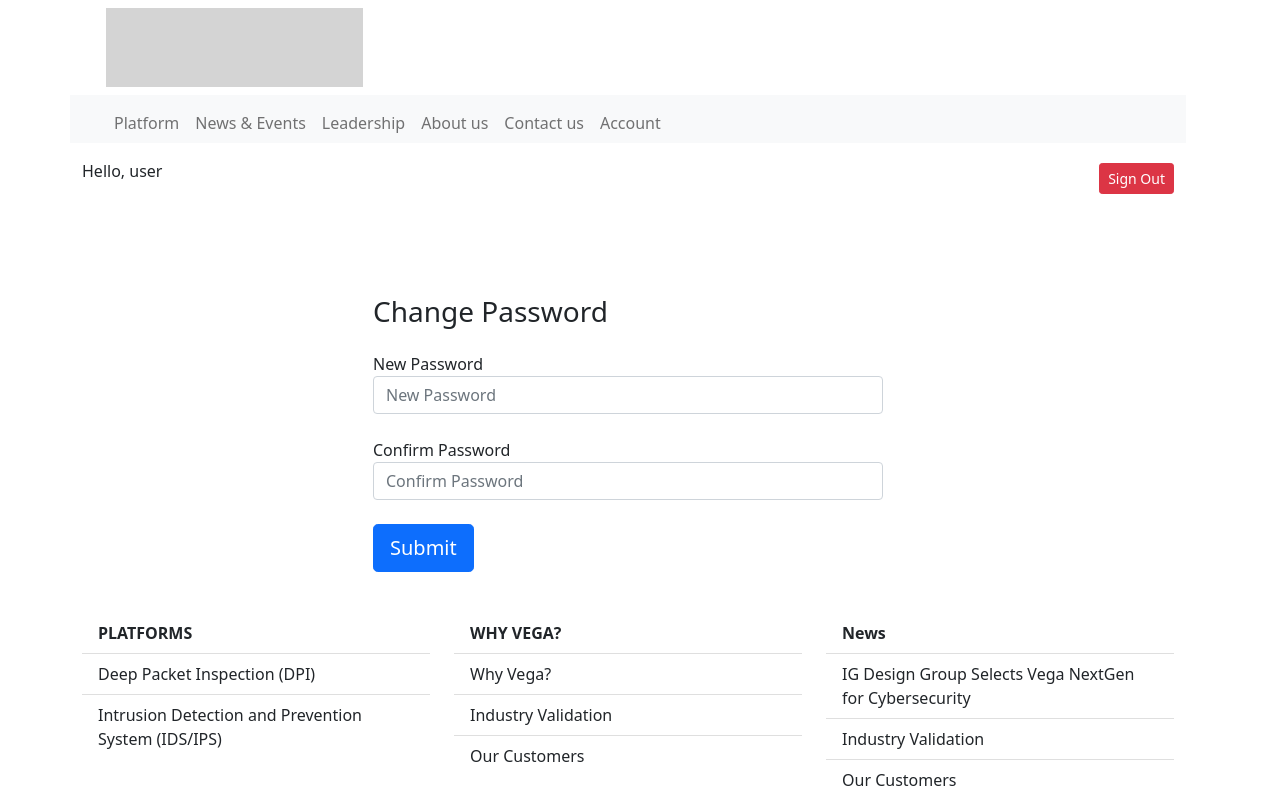
Test: UserAccount › change password form › shows error message when changePassword fails
Type "12345678" into the password field labelled "New Password".
click(628, 396); type("12345678")  # box left=373, top=376, right=883, bottom=414
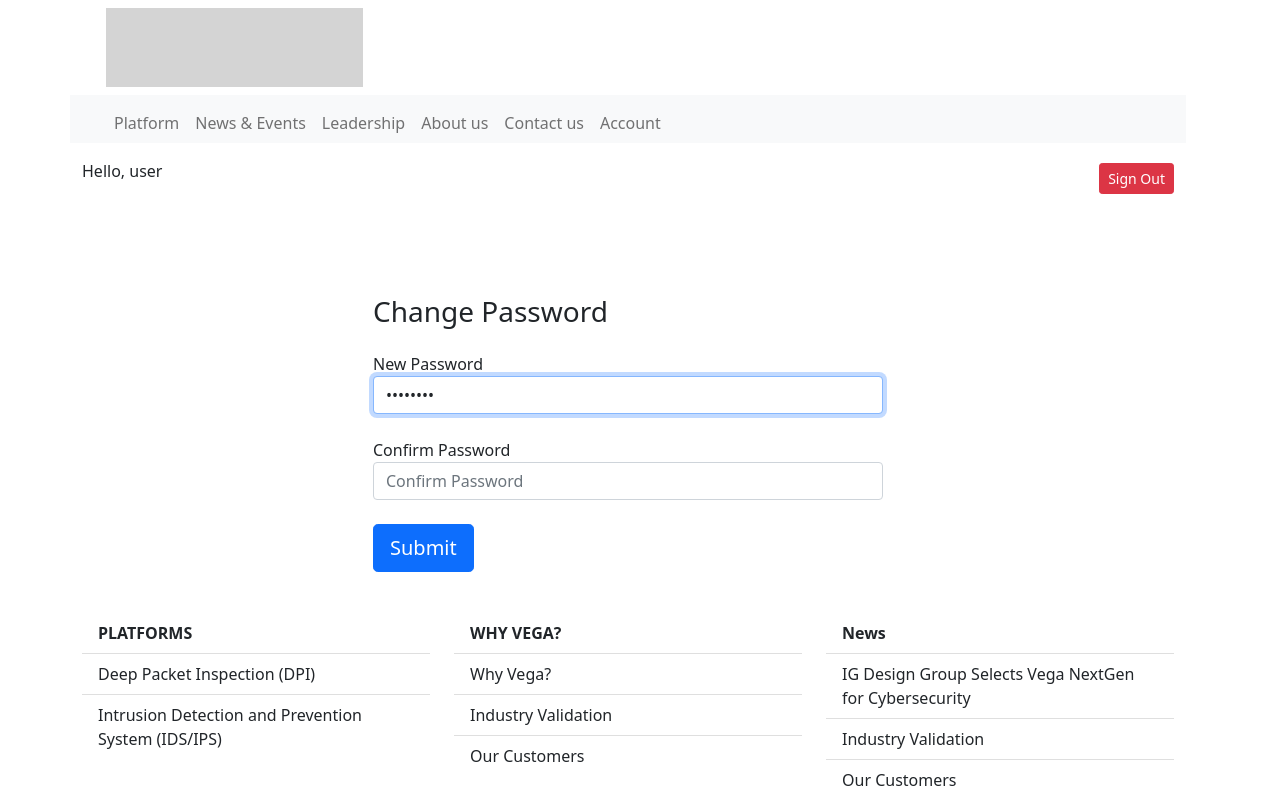
Type "12345678" into the password field labelled "Confirm Password".
click(628, 482); type("12345678")  # box left=373, top=462, right=883, bottom=500
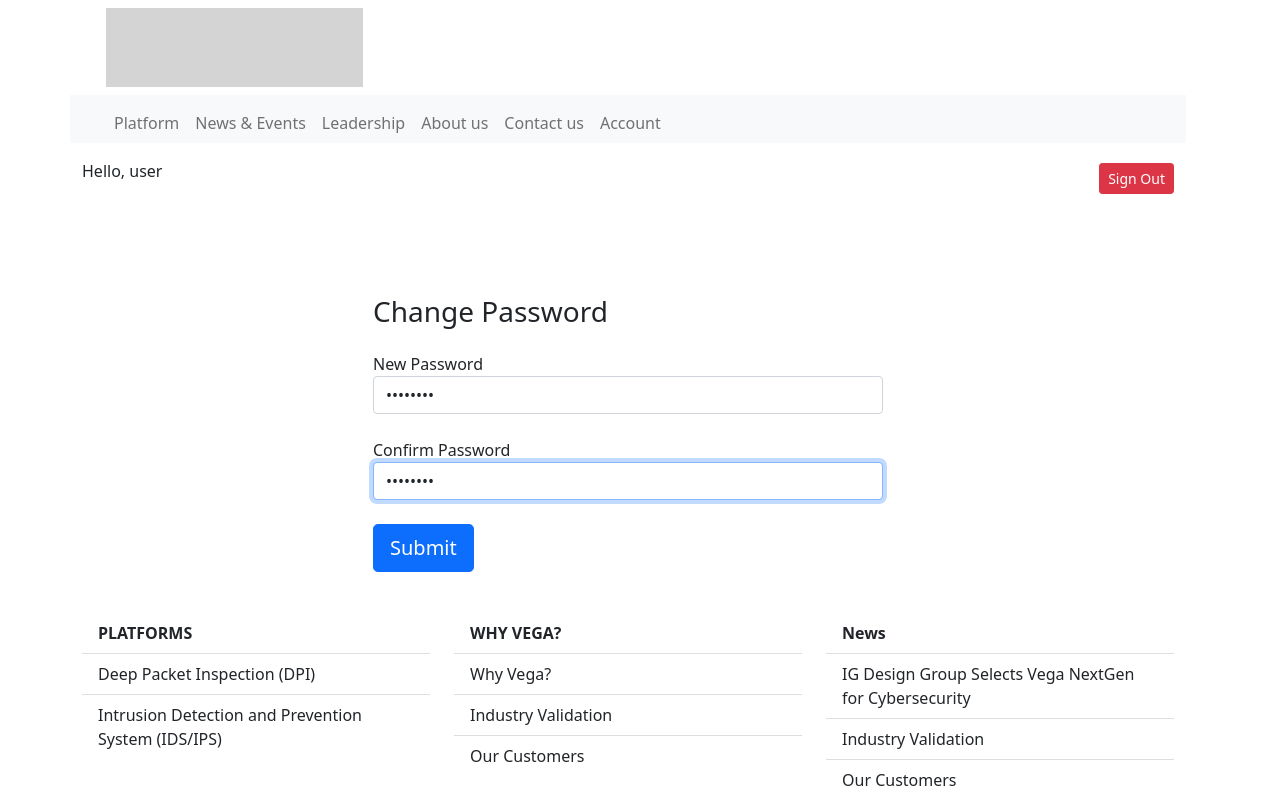
Click the button "Submit".
click(423, 548)  # box left=373, top=524, right=474, bottom=572
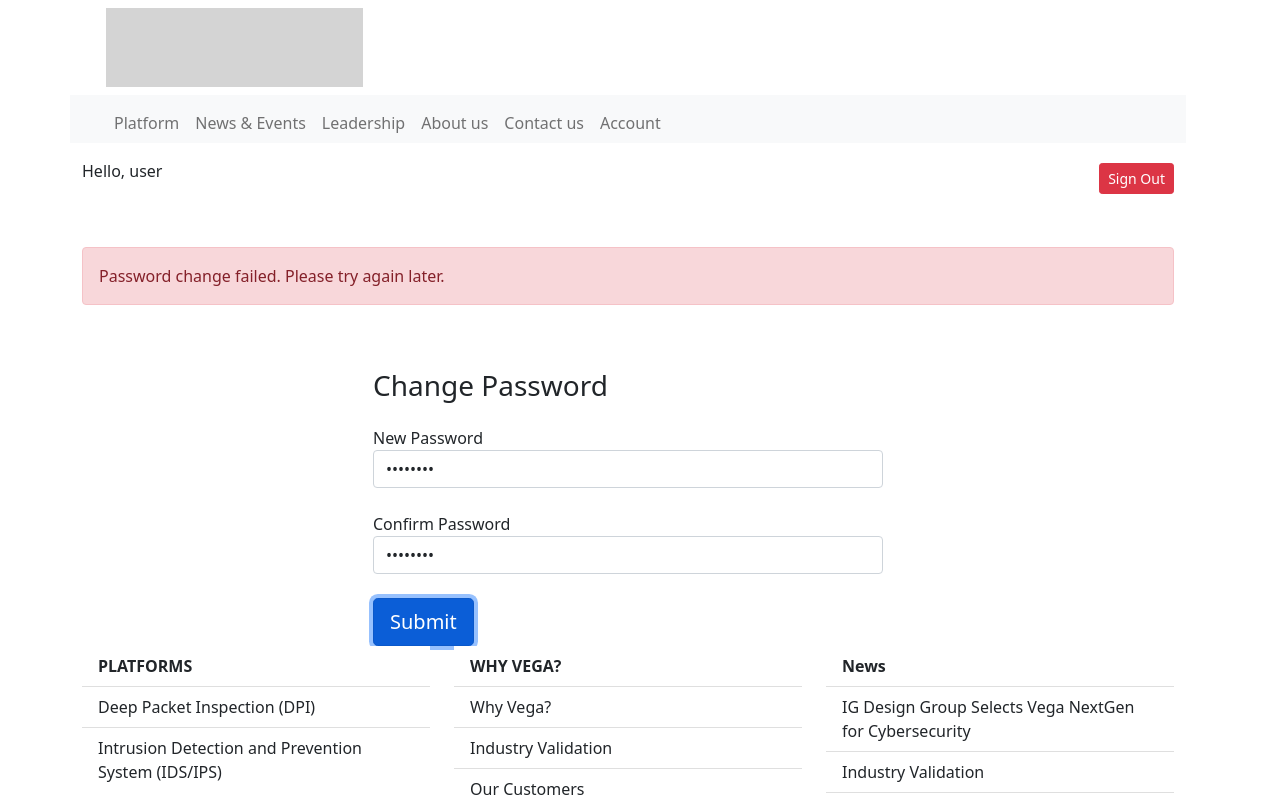
Expected: the text "Password change failed. Please try again later." is shown, left=82, top=247, right=1174, bottom=305
